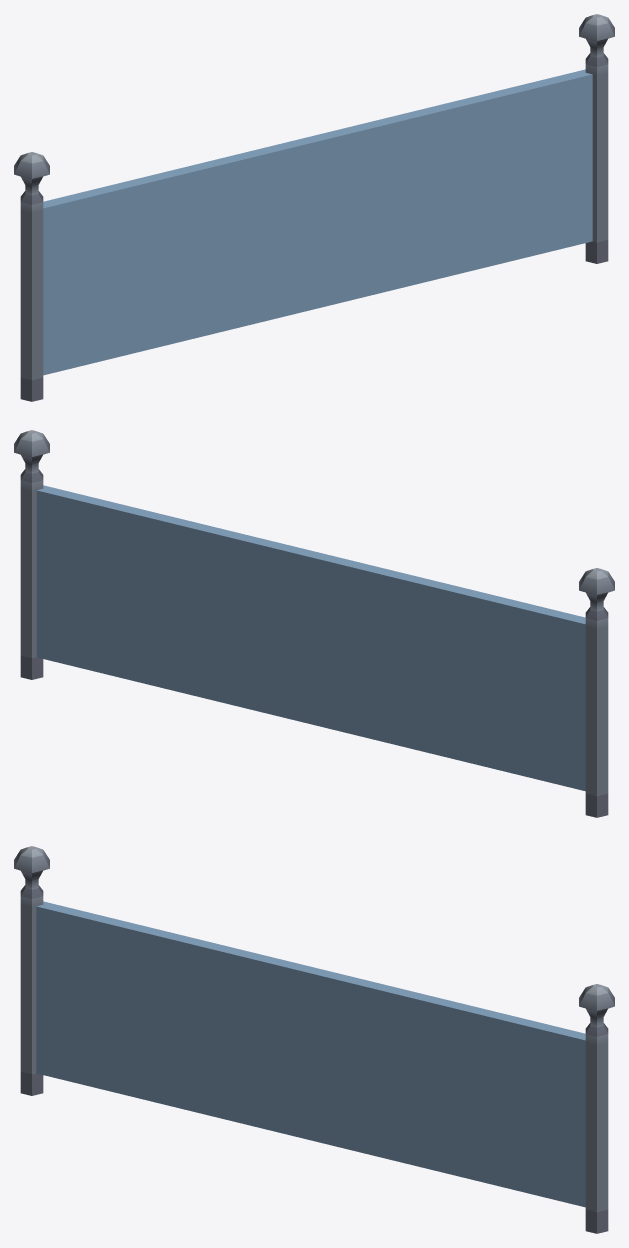
The model's file is long divider.fbx.
3 views of the same model, one above another, from view 1: azimuth 30°, elevation 25°; view 2: azimuth 150°, elevation 25°; view 3: azimuth 330°, elevation 25° (orthographic).
Parts seen in each view (by area): view 1: divider; view 2: divider; view 3: divider.
Part boxes in pixels (left/top/right/bottom): divider: left=14, top=14, right=614, bottom=401; divider: left=14, top=430, right=614, bottom=817; divider: left=14, top=846, right=614, bottom=1233.
Size of the model in its own units: 3.43 by 1.32 by 0.1778.
